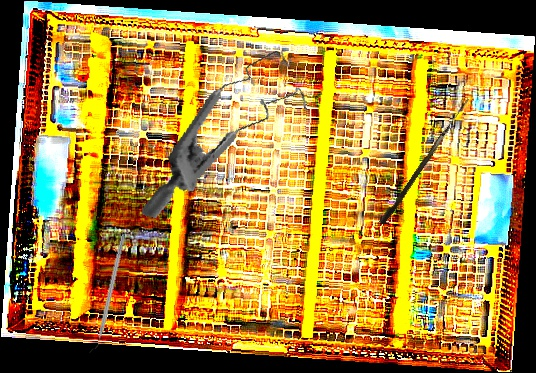Chopper: (87, 234, 126, 355)
Hook Surgical: (378, 94, 470, 227)
Speculum: (139, 29, 319, 246)
